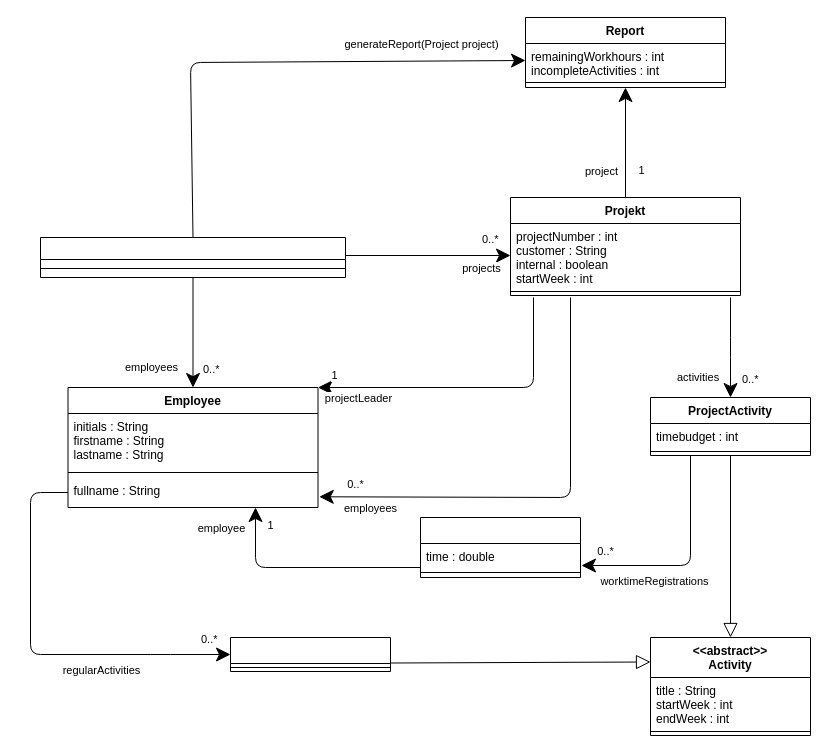
Some shapes in this 828 by 753 pixel diagram are drawn without their labels. The shapes that lost their labels are listed below. From the top down, each one's box as (x1, y1, x2, y2) in pixels, then its label:
(40, 236, 346, 278): AppController
(420, 516, 580, 578): worktimeRegistration
(230, 636, 390, 672): RegularActivity
